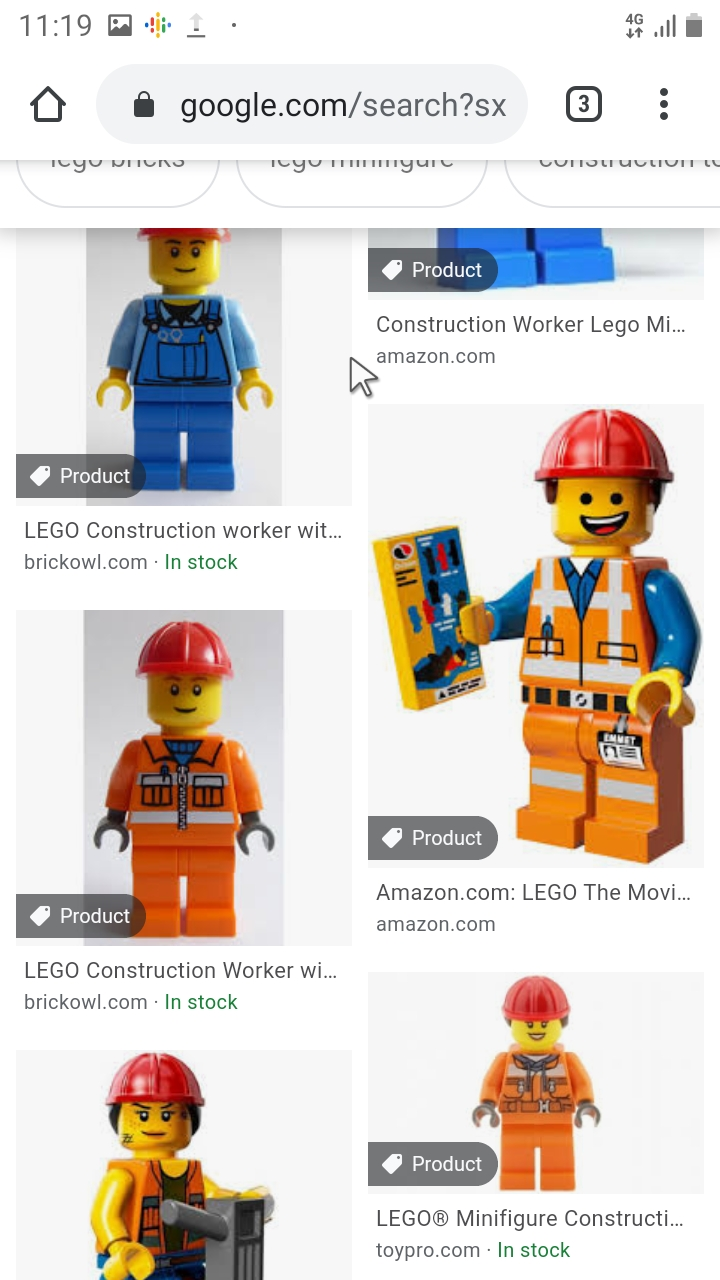pedestrian: (462, 404, 698, 865), (90, 615, 274, 951), (90, 219, 274, 496), (88, 1043, 279, 1280), (478, 972, 608, 1188)
